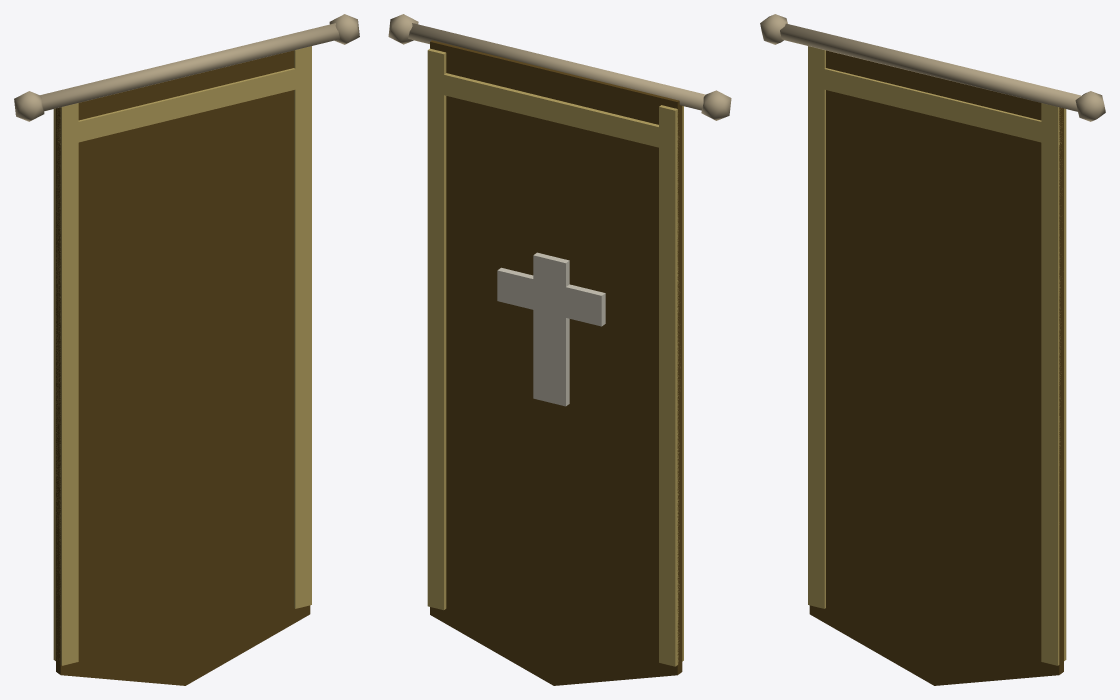
File: crimera_banner_v0.glb
3 renders of one model, left to right at view 1: azimuth 30°, elevation 25°; view 2: azimuth 150°, elevation 25°; view 3: azimuth 330°, elevation 25°, orthographic.
Parts seen in each view (by area): view 1: crimera_banner_v0; view 2: crimera_banner_v0; view 3: crimera_banner_v0.
Part boxes in pixels (box(x1,y1,x2,y2)): crimera_banner_v0: box(14, 14, 359, 685); crimera_banner_v0: box(388, 14, 731, 685); crimera_banner_v0: box(760, 14, 1105, 685).
Bounding box in the file's own units: 1.04 × 1.84 × 0.0933.
